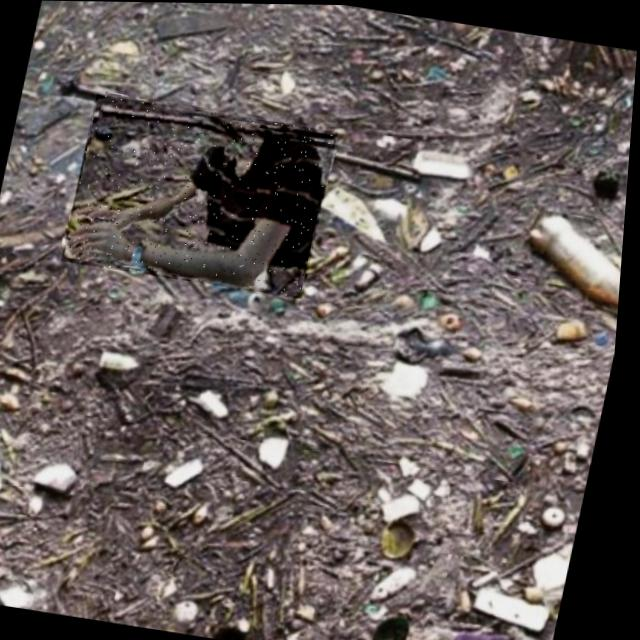Person in Rubble: (63, 93, 342, 299)
